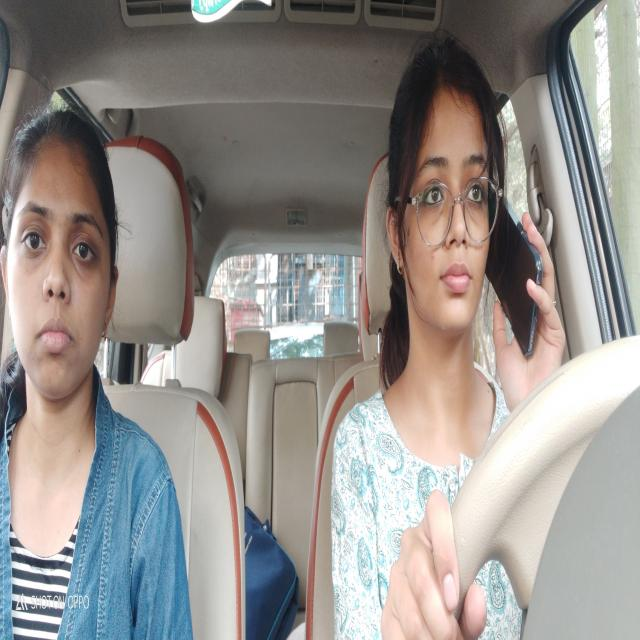mobile: (488, 178, 546, 369)
person: (385, 26, 502, 387), (3, 94, 120, 452)
